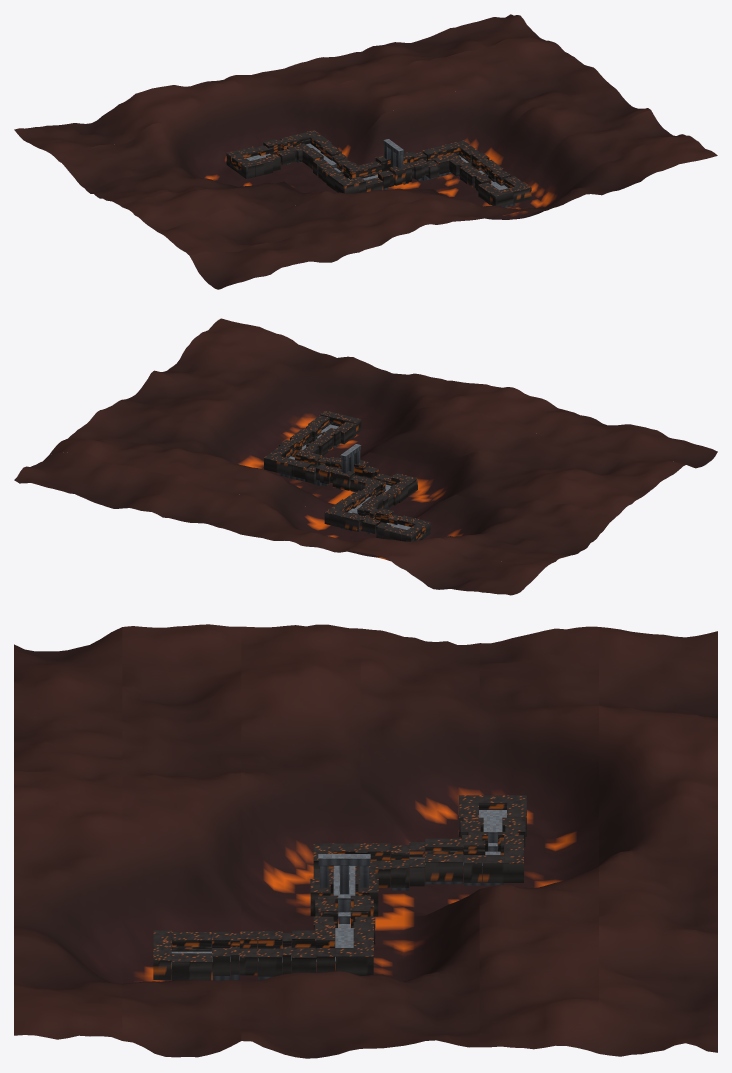
Rendered from piston_press_terrain.glb.
3 views of the same model, one above another, from view 1: azimuth 30°, elevation 25°; view 2: azimuth 150°, elevation 25°; view 3: azimuth 270°, elevation 25° (orthographic). The views are drawn at different scales.
Parts seen in each view (by area): view 1: backdrop_4, backdrop_5, backdrop_3, backdrop_1, backdrop_0, backdrop_2, terrain_E, terrain_G, terrain_I, terrain_A, terrain_D, terrain_J (+3 smaller); view 2: backdrop_0, backdrop_1, backdrop_5, backdrop_2, backdrop_3, backdrop_4, terrain_E, terrain_I, terrain_D, terrain_G, terrain_A, terrain_J (+3 smaller); view 3: backdrop_5, backdrop_1, backdrop_4, backdrop_0, backdrop_2, backdrop_3, terrain_E, terrain_I, terrain_B, terrain_G, terrain_A, terrain_D (+3 smaller).
Boxes of the visible parts, bbox=[...] form: backdrop_4: bbox=[49, 37, 580, 188]; backdrop_5: bbox=[14, 14, 543, 152]; backdrop_3: bbox=[84, 62, 615, 204]; backdrop_1: bbox=[154, 110, 685, 255]; backdrop_0: bbox=[189, 135, 717, 289]; backdrop_2: bbox=[119, 89, 650, 230]; terrain_E: bbox=[365, 139, 428, 190]; terrain_G: bbox=[313, 154, 365, 193]; terrain_I: bbox=[255, 130, 326, 171]; terrain_A: bbox=[478, 176, 531, 207]; terrain_D: bbox=[415, 140, 474, 180]; terrain_J: bbox=[226, 146, 272, 178]; backdrop_0: bbox=[189, 318, 717, 468]; backdrop_1: bbox=[156, 345, 685, 490]; backdrop_5: bbox=[14, 452, 545, 595]; backdrop_2: bbox=[119, 370, 650, 516]; backdrop_3: bbox=[84, 401, 615, 551]; backdrop_4: bbox=[49, 425, 580, 567]; terrain_E: bbox=[316, 444, 379, 491]; terrain_I: bbox=[324, 503, 402, 538]; terrain_D: bbox=[264, 449, 328, 485]; terrain_G: bbox=[357, 473, 417, 509]; terrain_A: bbox=[308, 410, 361, 448]; terrain_J: bbox=[384, 515, 430, 541]; backdrop_5: bbox=[599, 627, 717, 1056]; backdrop_1: bbox=[122, 624, 241, 1057]; backdrop_4: bbox=[479, 626, 598, 1053]; backdrop_0: bbox=[14, 627, 122, 1040]; backdrop_2: bbox=[241, 624, 360, 1058]; backdrop_3: bbox=[360, 628, 479, 1048]; terrain_E: bbox=[310, 854, 378, 927]; terrain_I: bbox=[460, 817, 525, 885]; terrain_B: bbox=[212, 931, 282, 980]; terrain_G: bbox=[313, 842, 424, 890]; terrain_A: bbox=[153, 930, 211, 980]; terrain_D: bbox=[313, 916, 375, 975].
Bounding box in the file's own units: 630 × 64.67 × 455.
